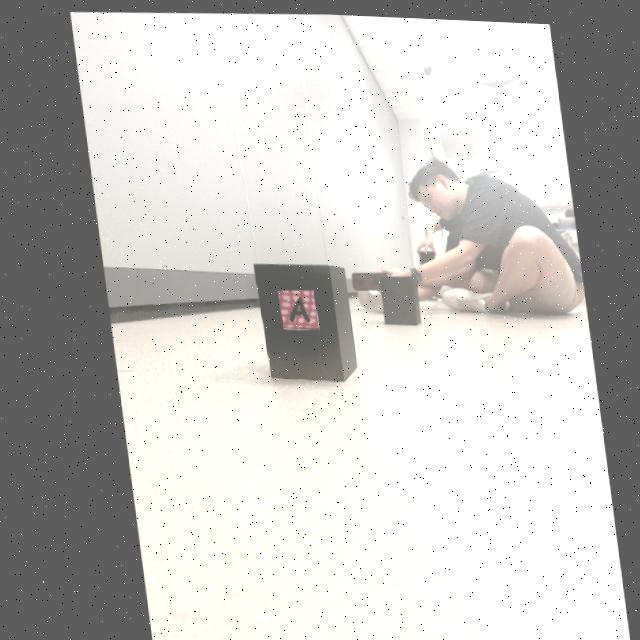A: (283, 294, 303, 319)
